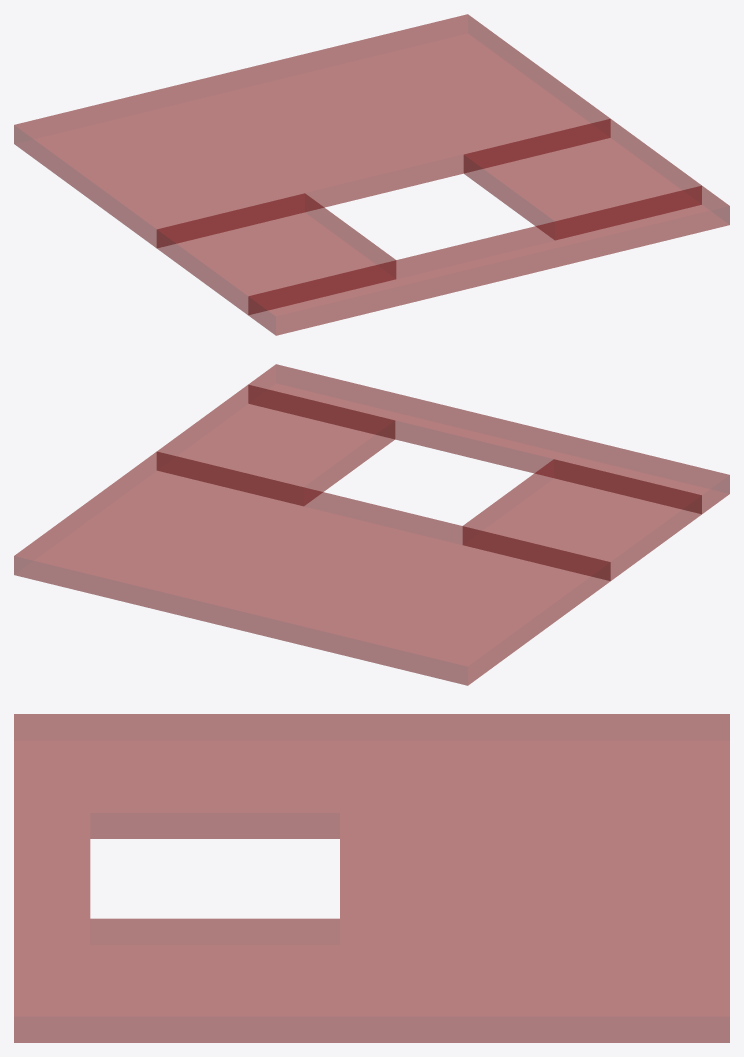
File: SM_Bld_Ceiling_02_Collision.fbx
3 renders of one model, top to bottom at view 1: azimuth 30°, elevation 25°; view 2: azimuth 150°, elevation 25°; view 3: azimuth 270°, elevation 25°, orthographic. The views are drawn at different scales.
Parts seen in each view (by area): view 1: SM_Bld_Ceiling_02_Collision; view 2: SM_Bld_Ceiling_02_Collision; view 3: SM_Bld_Ceiling_02_Collision.
Part boxes in pixels (x1=…): SM_Bld_Ceiling_02_Collision: x1=14, y1=14, x2=729, y2=335; SM_Bld_Ceiling_02_Collision: x1=14, y1=364, x2=729, y2=685; SM_Bld_Ceiling_02_Collision: x1=14, y1=714, x2=729, y2=1042.
Size of the model in its own units: 250 by 10.06 by 250.
